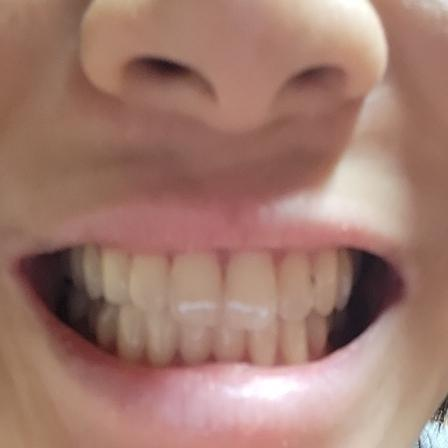Healthy: (167, 253, 278, 320), (176, 323, 277, 361), (279, 257, 338, 319), (103, 250, 166, 308), (119, 310, 173, 364)
